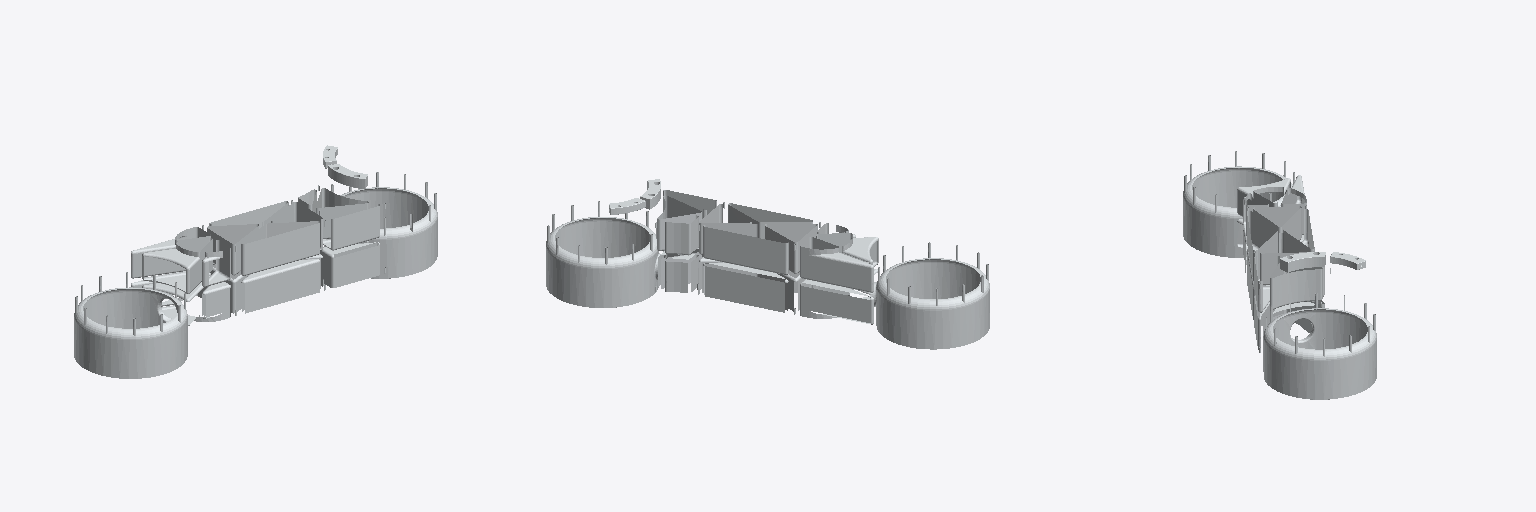
Rendered from torso_l2_9.obj.
3 renders of one model, left to right at view 1: azimuth 30°, elevation 25°; view 2: azimuth 150°, elevation 25°; view 3: azimuth 270°, elevation 25°, orthographic.
Size of the model in its own units: 0.5452 by 0.137 by 0.2356.